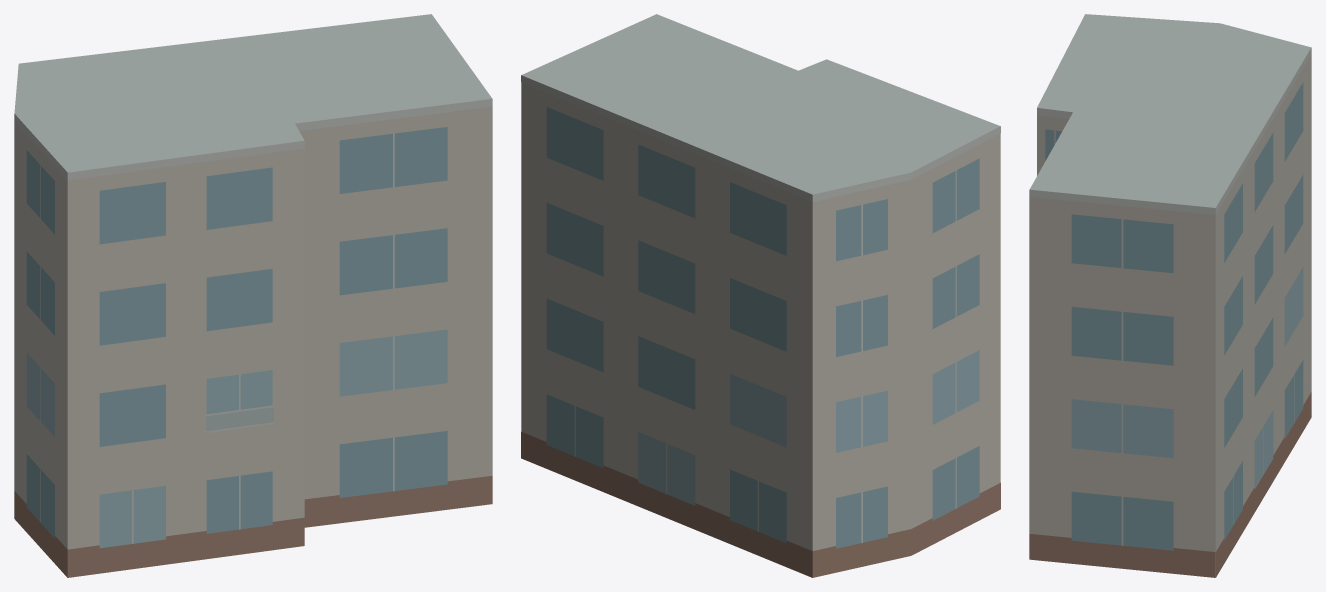
Rendered from survey-upis-32506305.glb.
The picture shows the model from 3 angles, left to right: view 1: azimuth 30°, elevation 25°; view 2: azimuth 150°, elevation 25°; view 3: azimuth 270°, elevation 25°; orthographic projection. The views are drawn at different scales.
Visible parts, largest first — view 1: survey-upis-32506305.tmp; view 2: survey-upis-32506305.tmp; view 3: survey-upis-32506305.tmp.
Boxes of the visible parts, bbox=[...] form: survey-upis-32506305.tmp: bbox=[14, 14, 492, 577]; survey-upis-32506305.tmp: bbox=[521, 14, 1000, 577]; survey-upis-32506305.tmp: bbox=[1029, 14, 1311, 577].
Bounding box in the file's own units: 14.41 × 12.8 × 8.86.
